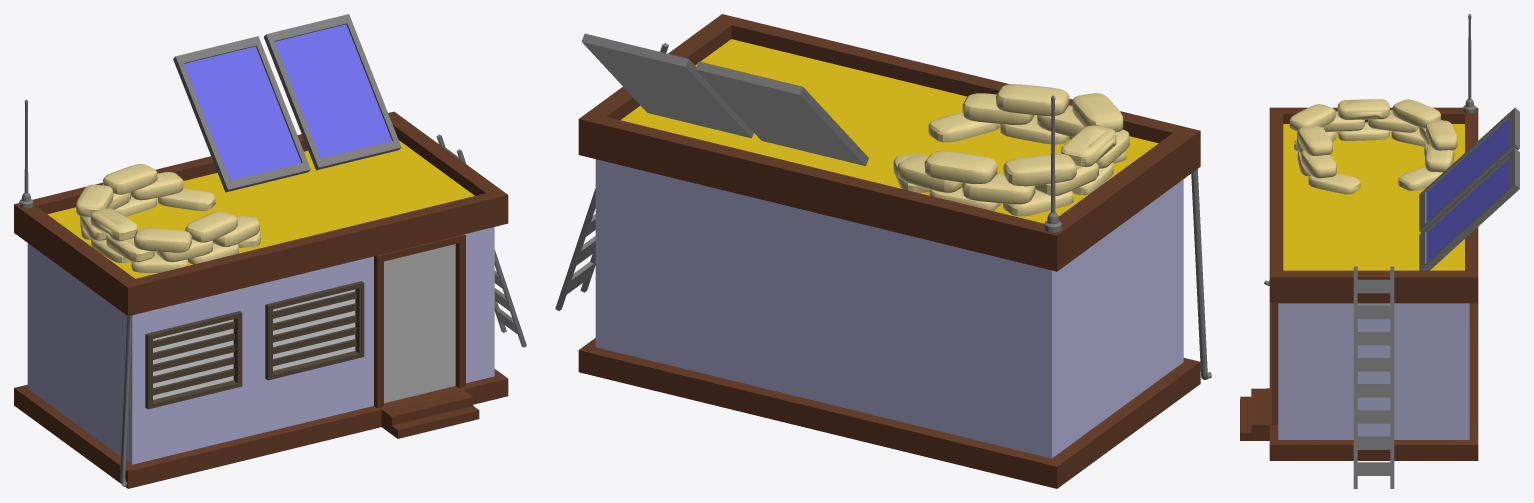
3 renders of one model, left to right at view 1: azimuth 30°, elevation 25°; view 2: azimuth 150°, elevation 25°; view 3: azimuth 270°, elevation 25°, orthographic. The views are drawn at different scales.
Visible parts, largest first — view 1: house; view 2: house; view 3: house.
Boxes of the visible parts, x1,y1,x2,y2 form: house: [14, 14, 526, 488]; house: [555, 14, 1211, 488]; house: [1240, 14, 1519, 488].
Bounding box in the file's own units: 499 × 324 × 292.
